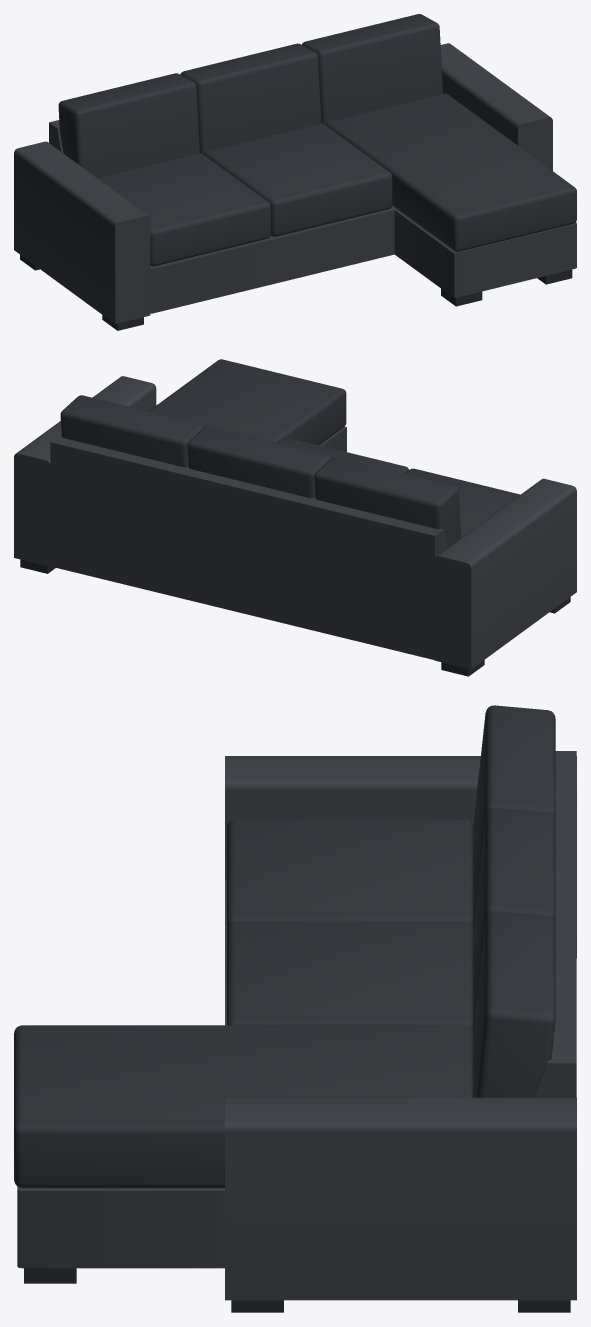
Rendered from Sofa3_C1.fbx.
The picture shows the model from 3 angles, top to bottom: view 1: azimuth 30°, elevation 25°; view 2: azimuth 150°, elevation 25°; view 3: azimuth 270°, elevation 25°; orthographic projection. The views are drawn at different scales.
Parts seen in each view (by area): view 1: Sofa3_C1; view 2: Sofa3_C1; view 3: Sofa3_C1.
Part boxes in pixels (x1,y1,x2,y2): Sofa3_C1: [14, 14, 576, 330]; Sofa3_C1: [14, 359, 576, 676]; Sofa3_C1: [14, 705, 576, 1312].
Bounding box in the file's own units: 250 × 85.61 × 160.
